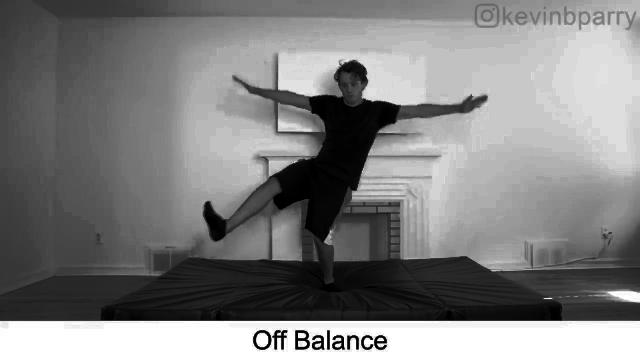jatuh: (174, 48, 488, 294)
